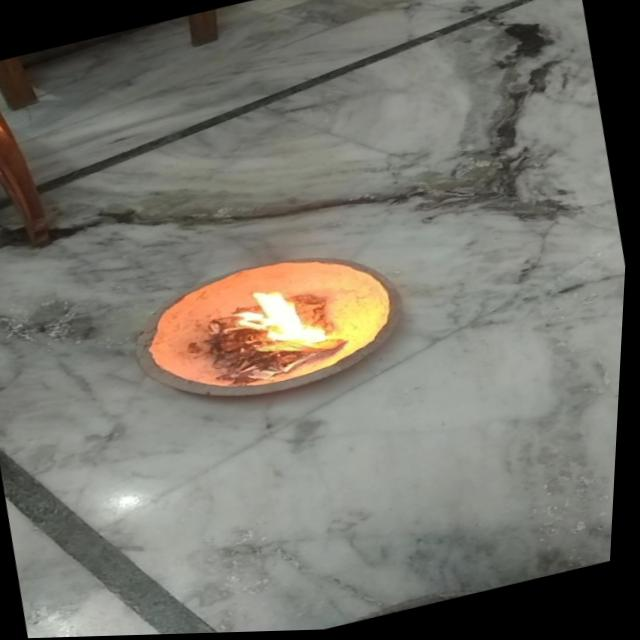fire: (223, 271, 352, 376)
